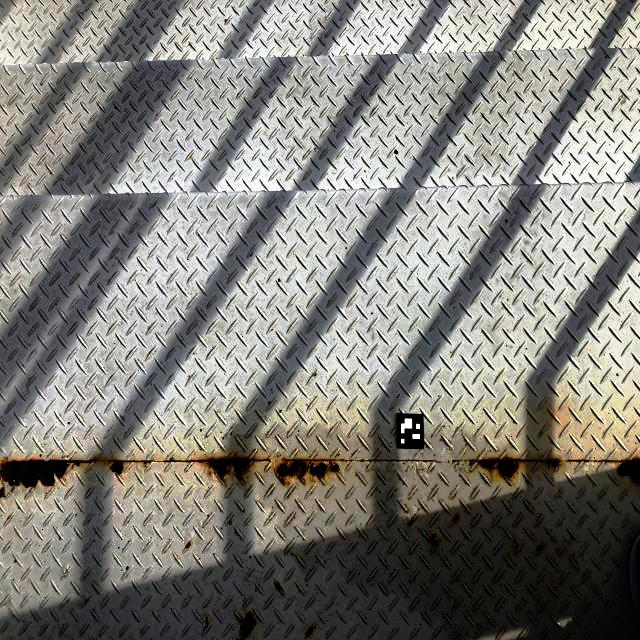Corrosion: (0, 457, 97, 499), (187, 456, 266, 486), (274, 459, 343, 488), (476, 457, 523, 480), (615, 456, 640, 487), (237, 610, 257, 640), (109, 459, 125, 475), (546, 456, 564, 470), (303, 623, 316, 639), (430, 532, 439, 549), (274, 582, 282, 595), (183, 539, 191, 550), (535, 544, 544, 553), (204, 616, 209, 631), (407, 519, 415, 526), (452, 515, 459, 522), (469, 460, 474, 466)
